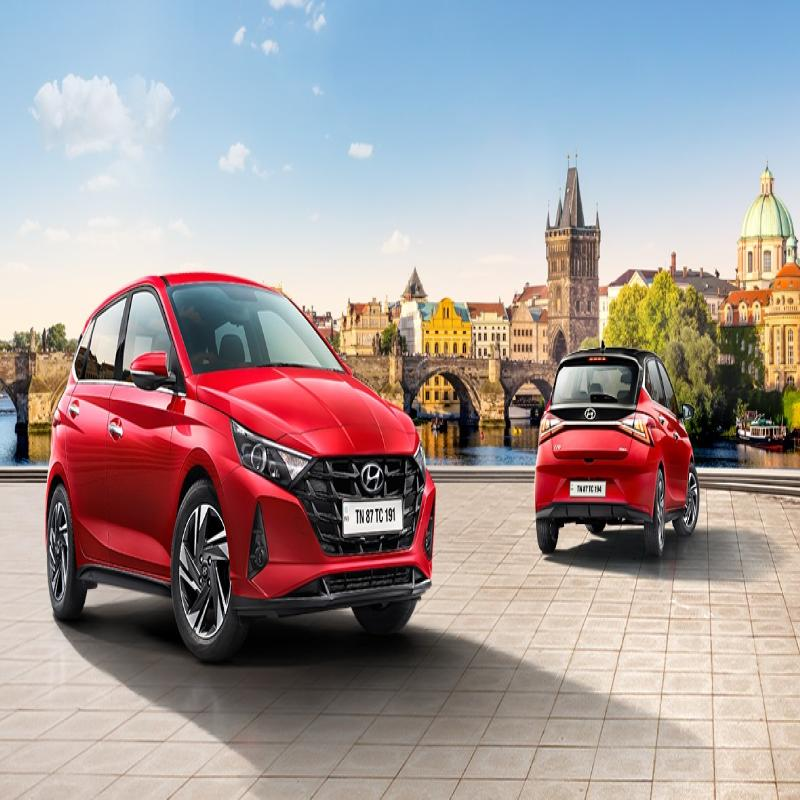car: (41, 260, 434, 632), (533, 331, 705, 554)
